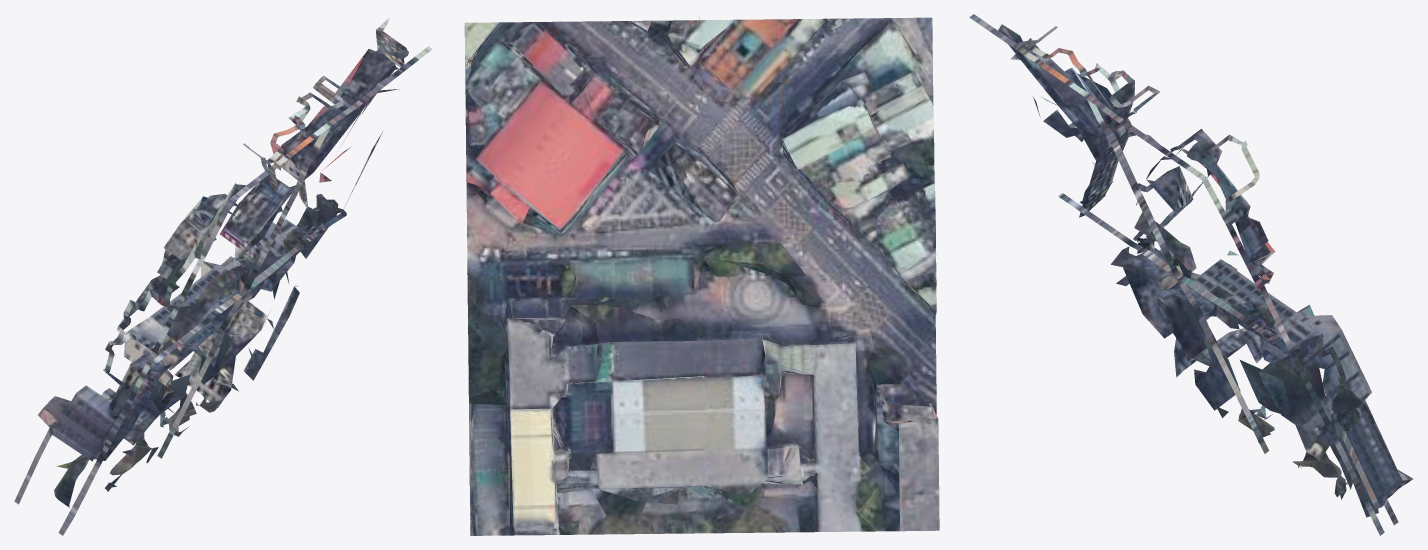
The picture shows the model from 3 angles, left to right: view 1: azimuth 30°, elevation 25°; view 2: azimuth 150°, elevation 25°; view 3: azimuth 270°, elevation 25°; orthographic projection. The views are drawn at different scales.
Bounding box in the file's own units: 162 × 147 × 138.
Materials: 1 (1 with a texture image).
